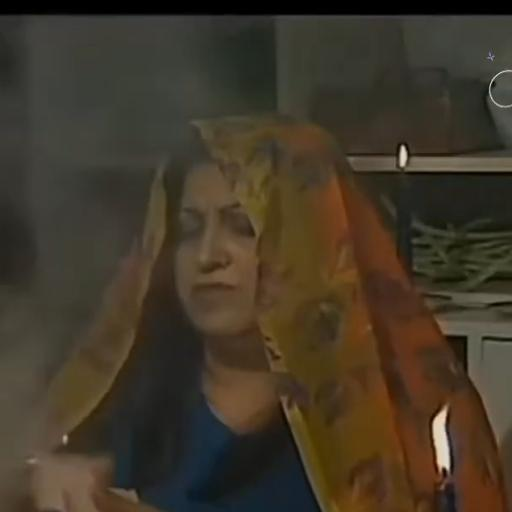jannet: (166, 138, 267, 371)
